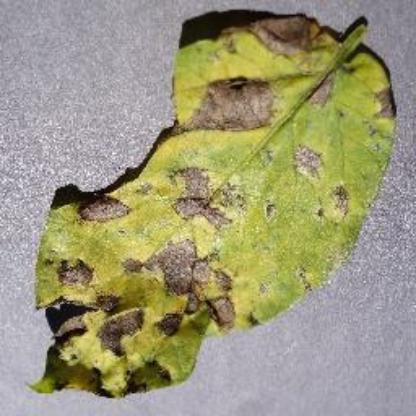Early-Blight: (27, 12, 401, 396)
